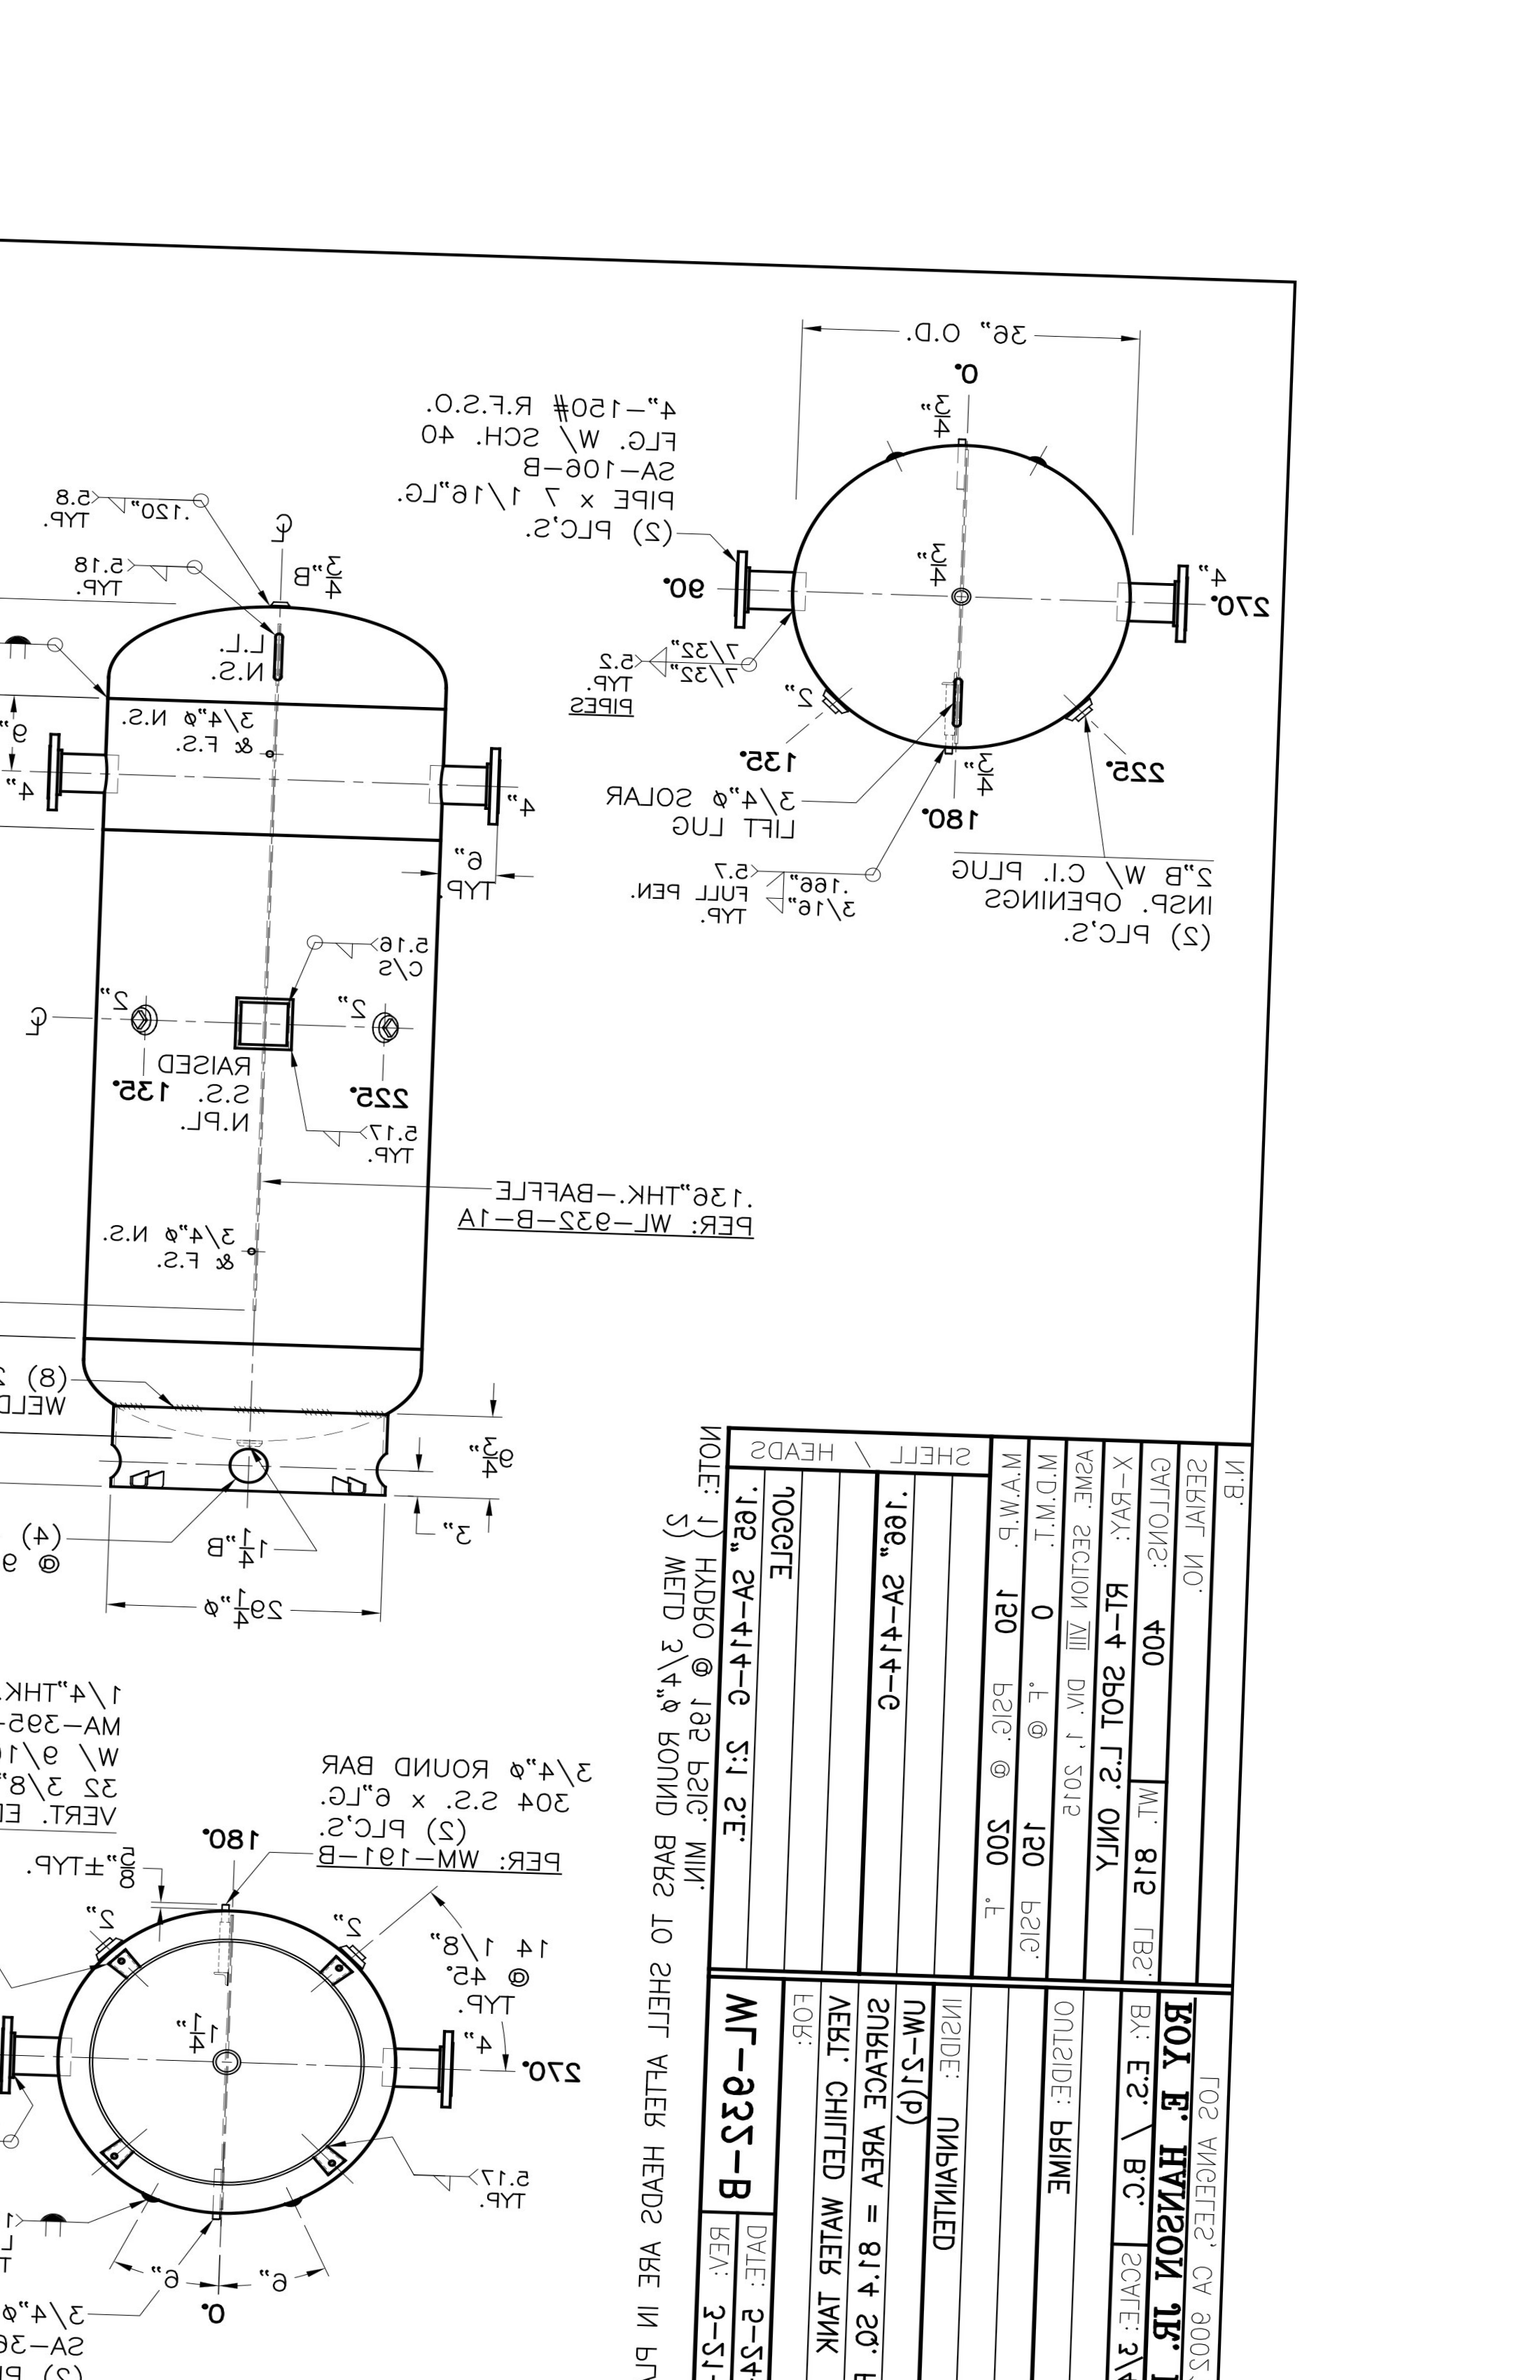Nozzle: (1103, 538, 1235, 677), (727, 508, 838, 649), (425, 718, 534, 853), (369, 2016, 486, 2132), (33, 701, 128, 841), (0, 2007, 94, 2104)
